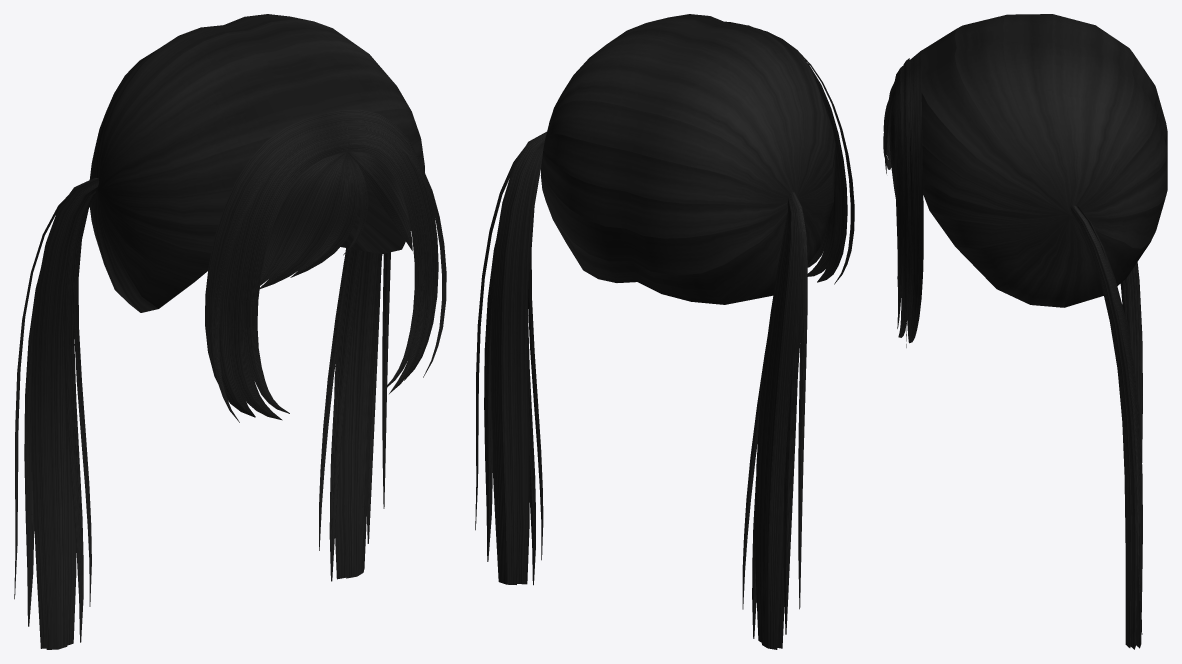
File: 18-long-pretty-black-pigtails-117422689311117.glb
3 views of the same model, side by side, from view 1: azimuth 30°, elevation 25°; view 2: azimuth 150°, elevation 25°; view 3: azimuth 270°, elevation 25° (orthographic). The views are drawn at different scales.
Parts seen in each view (by area): view 1: long-pretty-black-pigtails; view 2: long-pretty-black-pigtails; view 3: long-pretty-black-pigtails.
Part boxes in pixels (x1=…): long-pretty-black-pigtails: x1=14, y1=14, x2=446, y2=649; long-pretty-black-pigtails: x1=475, y1=14, x2=854, y2=649; long-pretty-black-pigtails: x1=883, y1=14, x2=1167, y2=649.
Size of the model in its own units: 1.9 by 3 by 1.42.
Materials: 1 (1 with a texture image).
